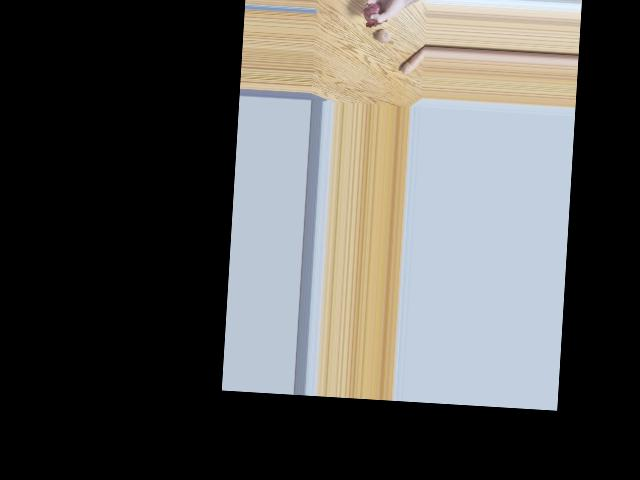onion: (362, 4, 381, 23)
